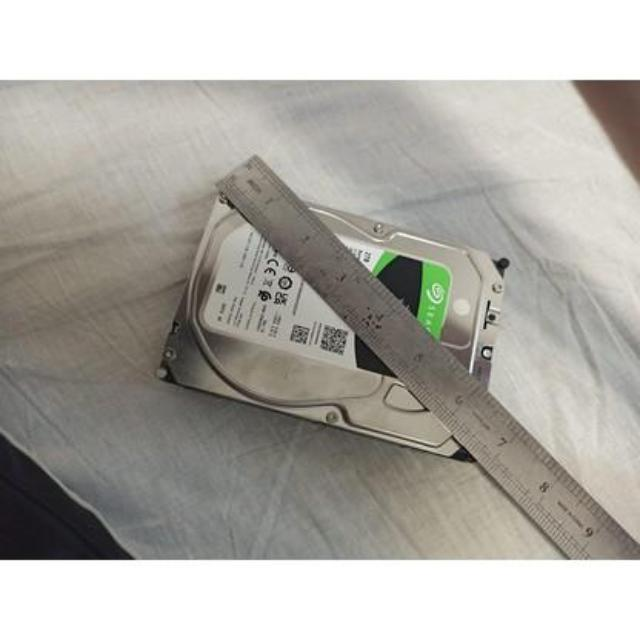DISK: (162, 194, 500, 456)
